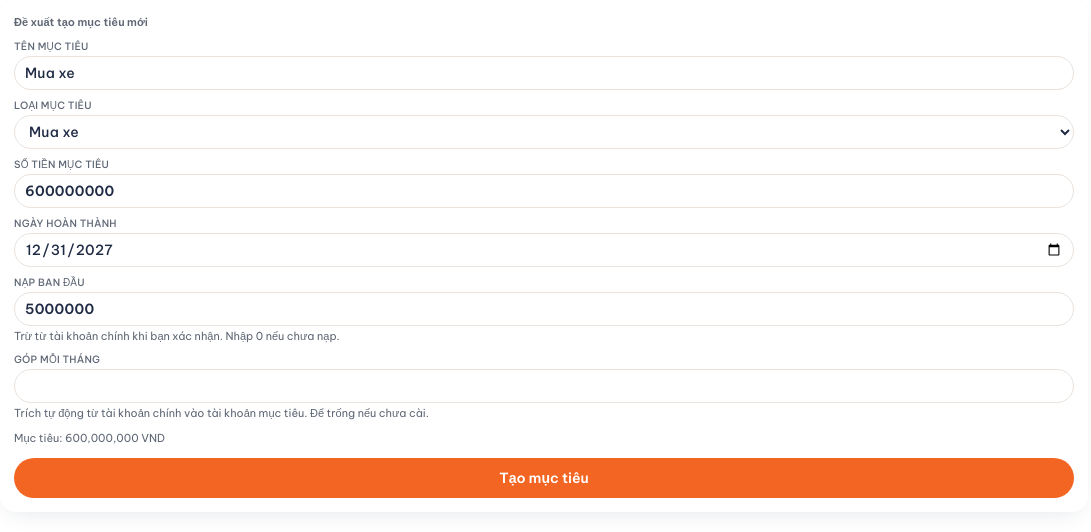
Test: AgentGoalCreateCard › shows the proposal and, on confirm, sends ONE createGoal with the opening deposit (no draft, no openAccount)
Expected: the field labelled "Tên mục tiêu" holds "Mua xe", [14,56,1074,90]
Expected: the field labelled "Nạp ban đầu" holds "5000000", [14,292,1074,326]
Click the button "Tạo mục tiêu": (544, 478) [14,458,1074,498]
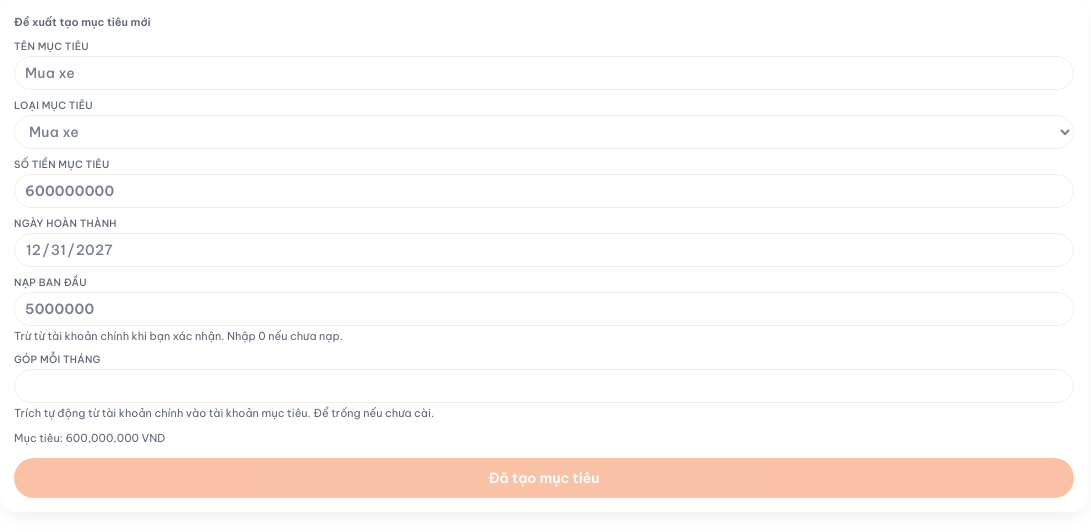
Expected: the button "Đã tạo mục tiêu" is disabled, [14,458,1074,498]
